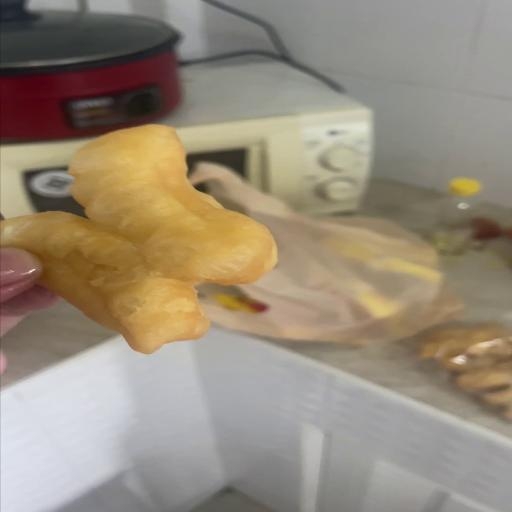street_golden_defect: (2, 126, 274, 352)
